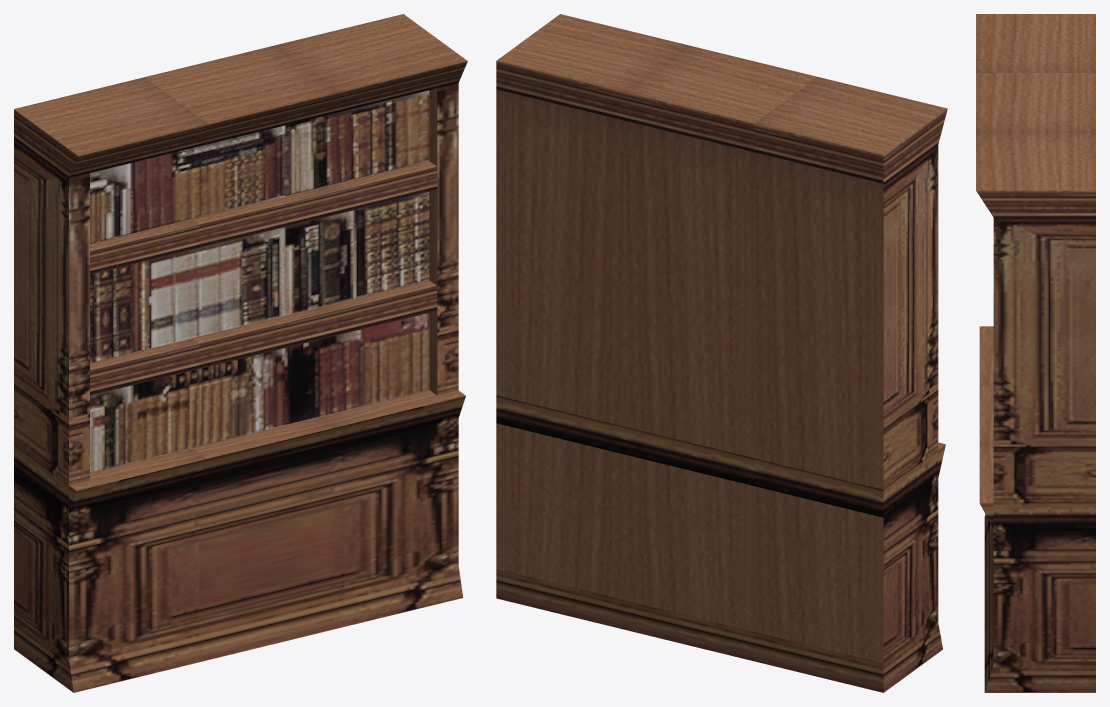
Rendered from Bcase02.glb.
3 views of the same model, side by side, from view 1: azimuth 30°, elevation 25°; view 2: azimuth 150°, elevation 25°; view 3: azimuth 270°, elevation 25° (orthographic). The views are drawn at different scales.
Parts seen in each view (by area): view 1: _Bcase02; view 2: _Bcase02; view 3: _Bcase02.
Part boxes in pixels (x1,y1,x2,y2): _Bcase02: (14,14,467,692); _Bcase02: (496,14,947,692); _Bcase02: (976,14,1095,692).
Bounding box in the file's own units: 2.42 × 3.21 × 0.694.
Materials: 1 (1 with a texture image).
